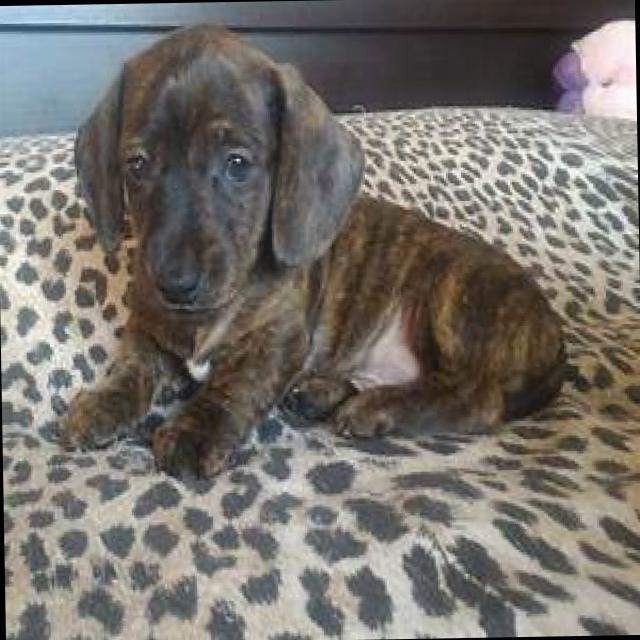animal: (66, 15, 568, 486)
